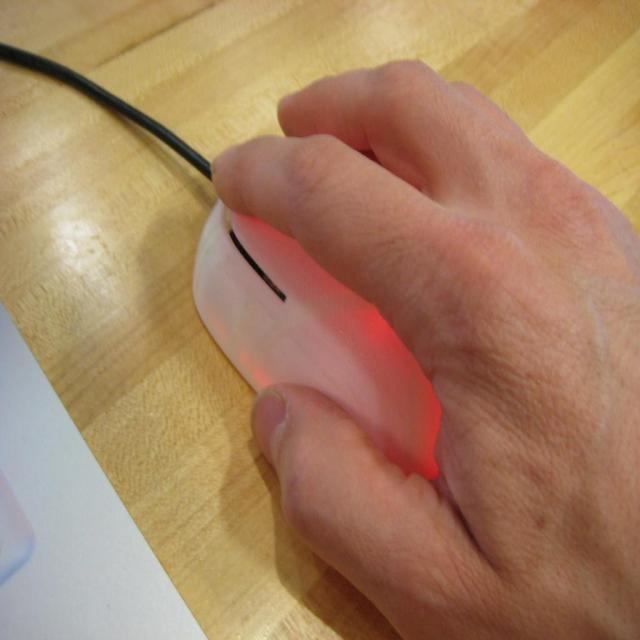Computer mouse: (189, 197, 452, 487)
